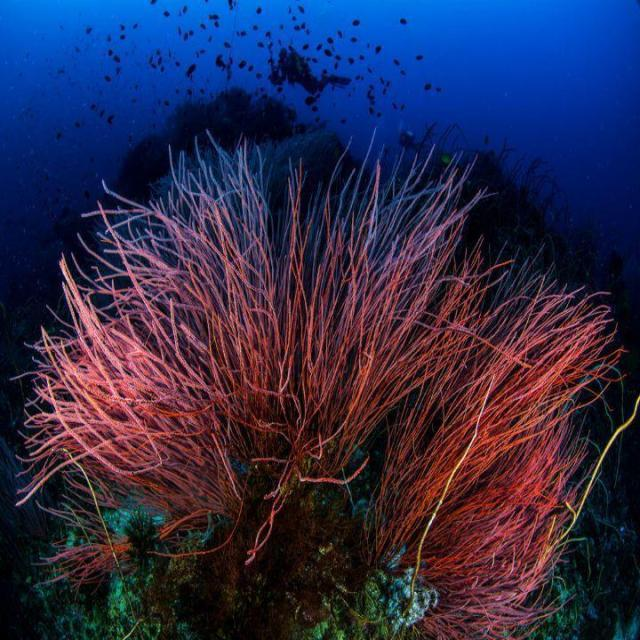Healthy Coral: (18, 114, 627, 622)
